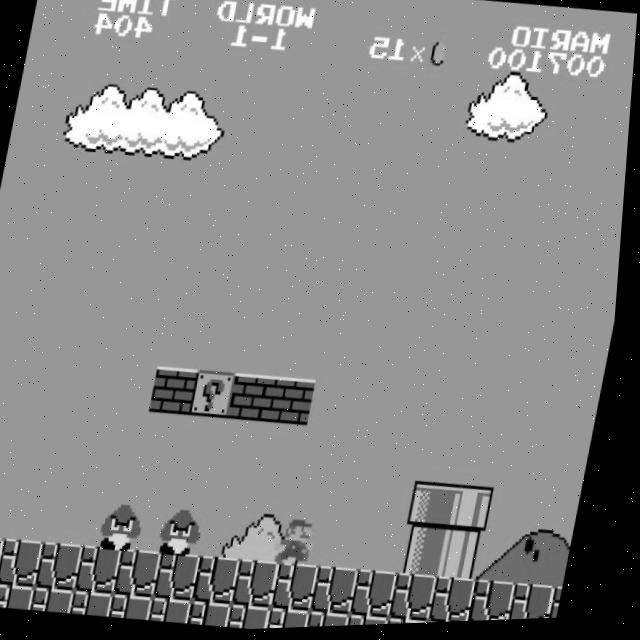1- brick_block: (154, 365, 203, 418), (273, 377, 322, 429), (233, 373, 282, 425)
11- little_mario: (280, 516, 332, 572)
13- mystery_block: (194, 369, 243, 422)
14- pipe: (406, 528, 455, 581), (445, 532, 494, 584)
15- pipe_head: (453, 487, 502, 539), (414, 483, 463, 535)
17- undestructible_block: (358, 570, 407, 623), (319, 566, 368, 619), (201, 555, 250, 608), (161, 551, 210, 604), (82, 544, 131, 597), (43, 540, 92, 593), (398, 574, 447, 626), (279, 563, 328, 615), (240, 559, 289, 611), (122, 548, 171, 600), (3, 537, 52, 589), (437, 578, 485, 626), (477, 581, 525, 625), (517, 585, 565, 624), (117, 593, 162, 623), (78, 589, 123, 619), (196, 601, 241, 630), (157, 597, 202, 626), (39, 586, 84, 615), (0, 582, 44, 611), (236, 604, 280, 632), (276, 608, 320, 631), (315, 612, 359, 630), (0, 533, 13, 585), (355, 615, 398, 629), (557, 589, 572, 623), (395, 619, 438, 627), (0, 578, 4, 607)
8- goomba: (104, 500, 157, 556), (164, 505, 216, 561)
